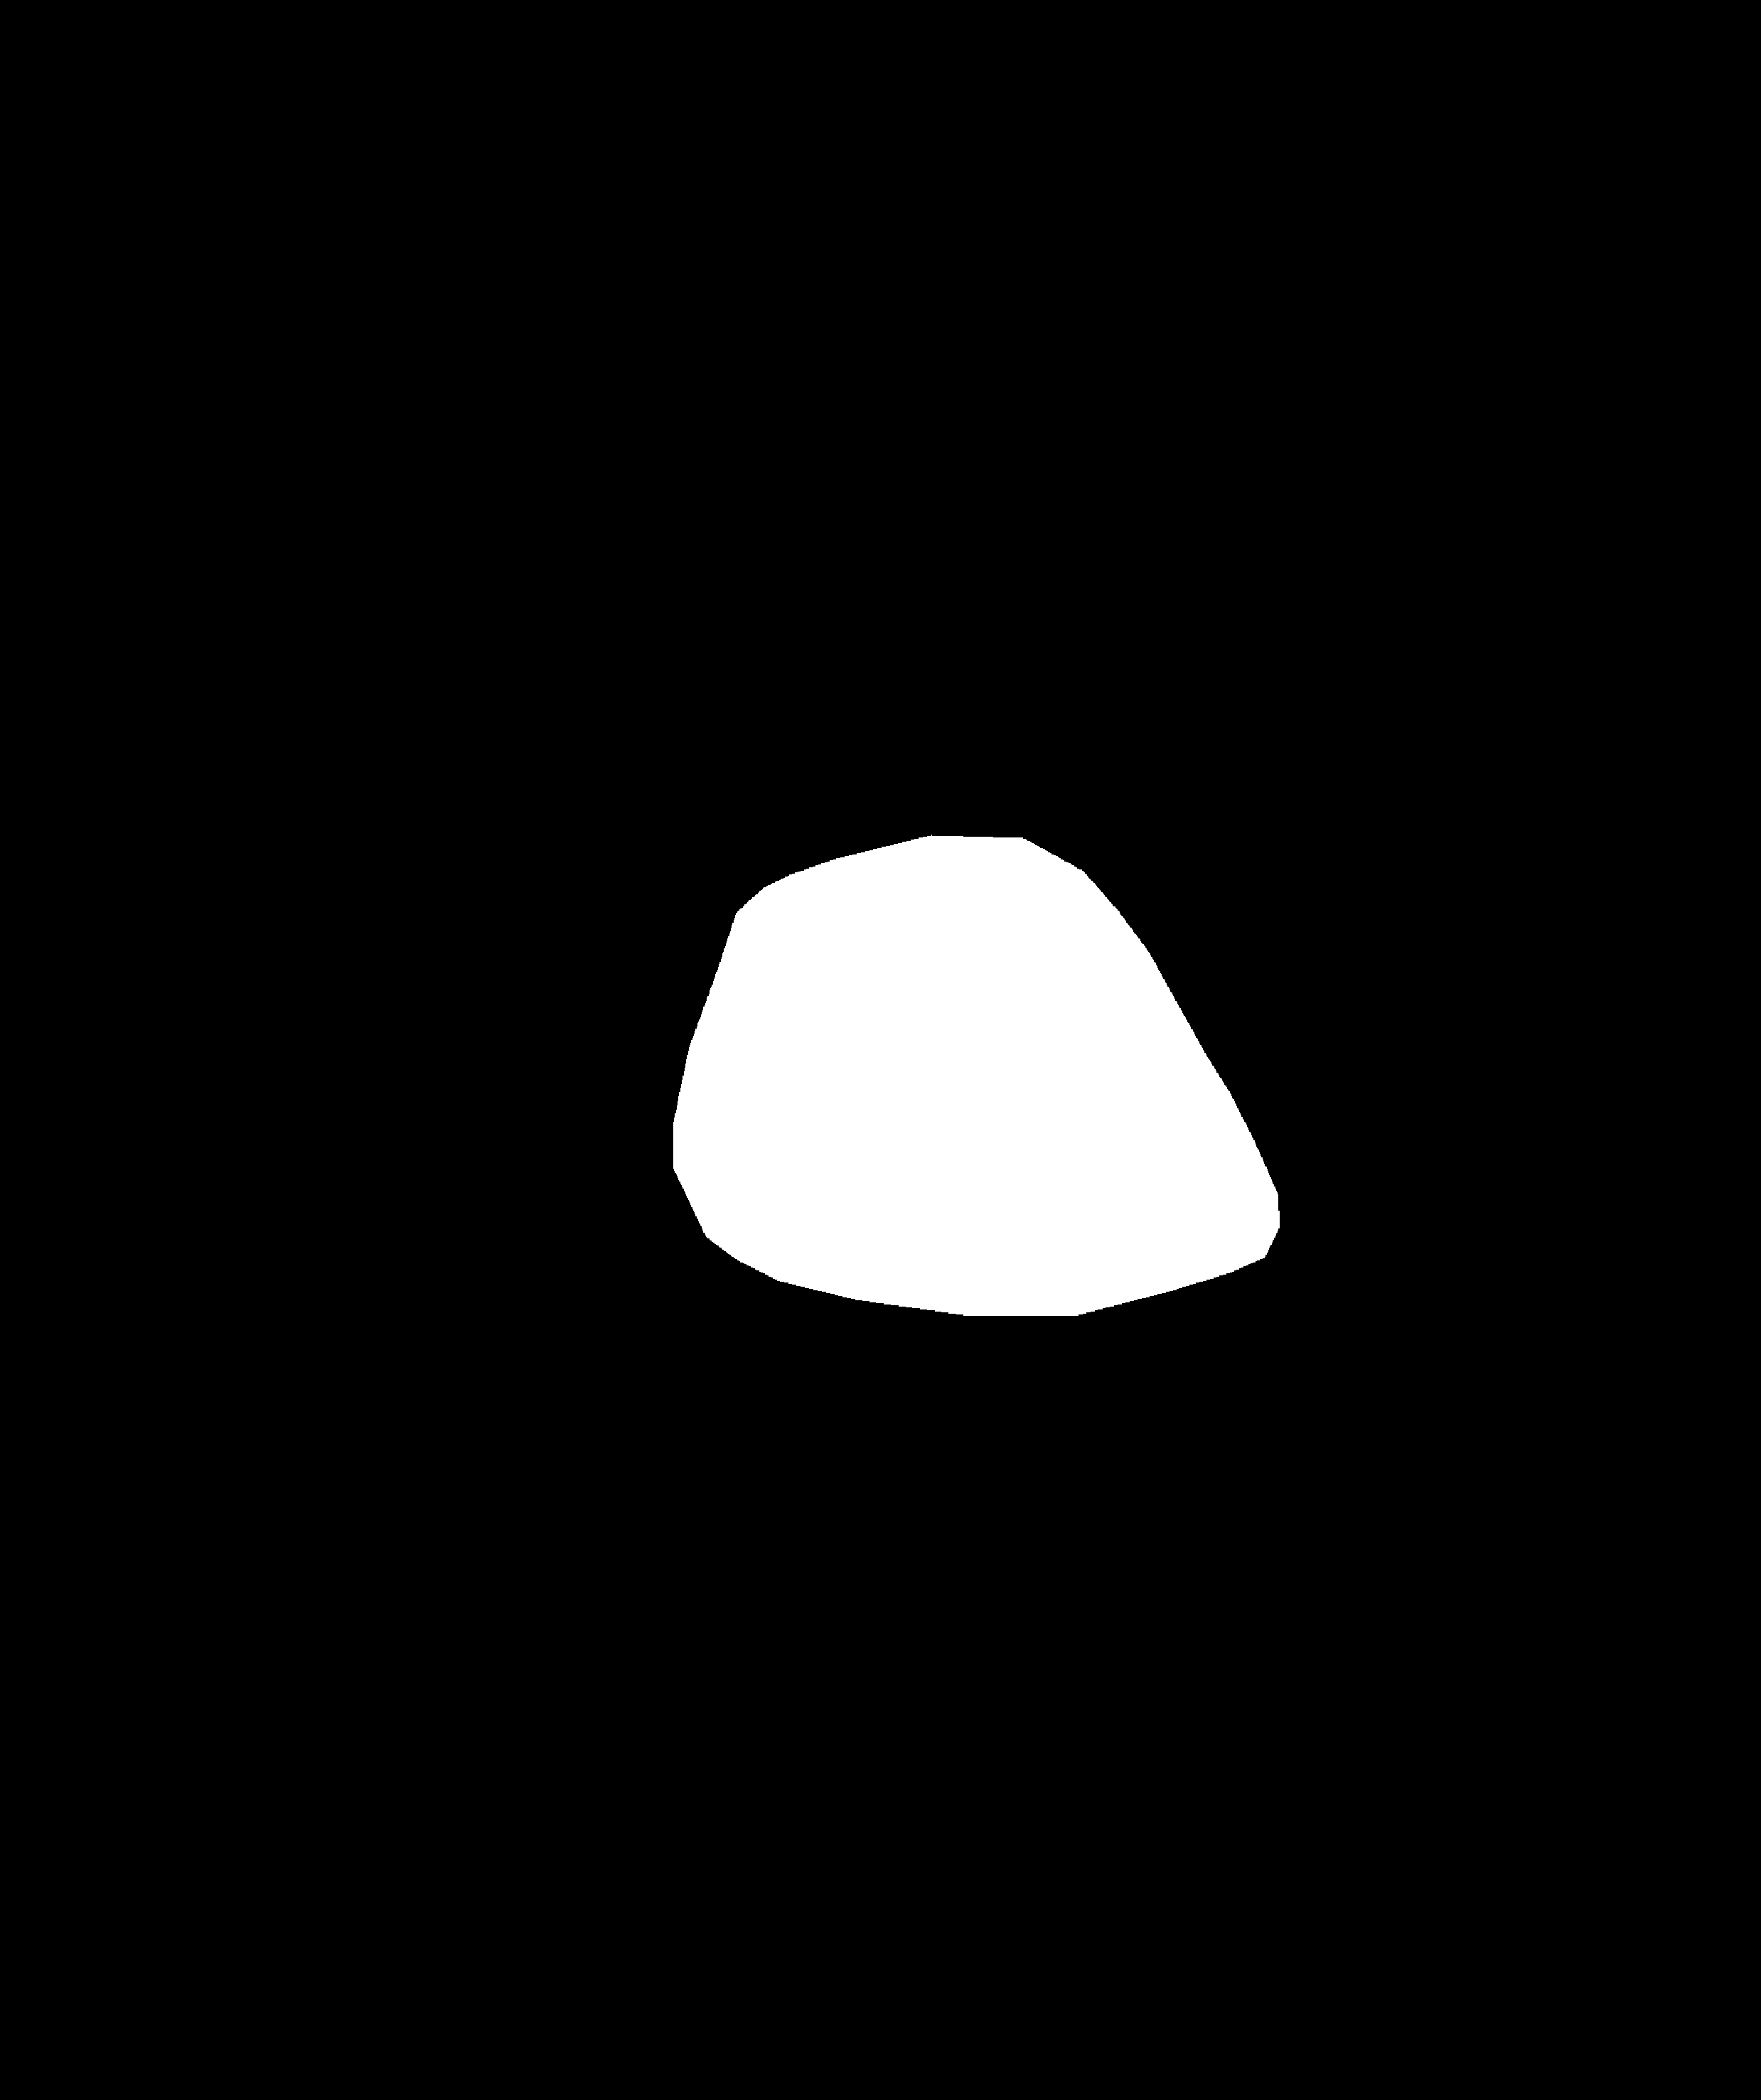heart: (671, 970, 1291, 1340)
left_lung: (208, 278, 853, 1385)
right_lung: (982, 278, 1543, 1394)
